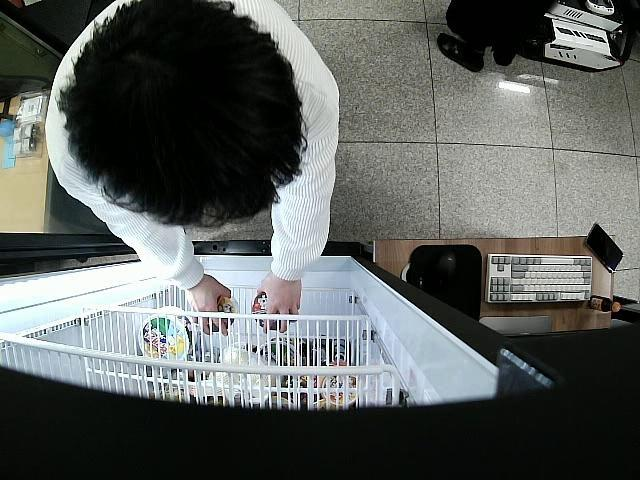08_buldak_S: (252, 290, 287, 332), (210, 296, 237, 332)
